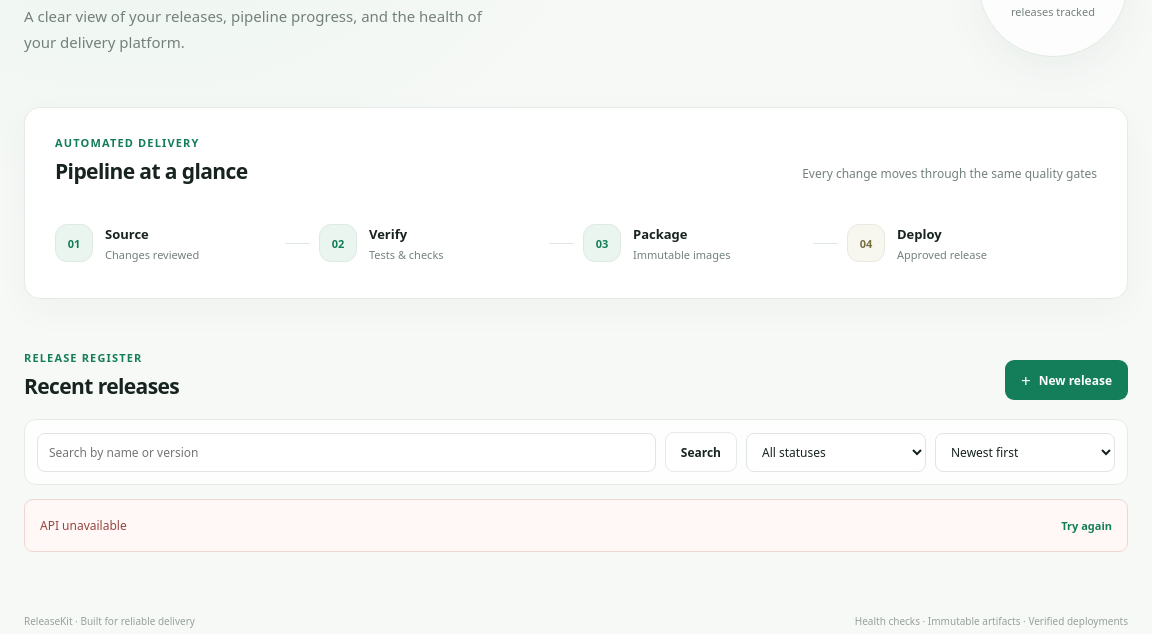
Test: release dashboard › shows an API error and retries release loading
(page scrolled)
Expected: the message "API unavailable Try again" is shown, x1=24 y1=499 x2=1128 y2=552
Expected: the message shows "API unavailable", x1=40 y1=517 x2=127 y2=534
Click the button "Try again" at coordinates (1087, 526), box x1=1061 y1=513 x2=1112 y2=538
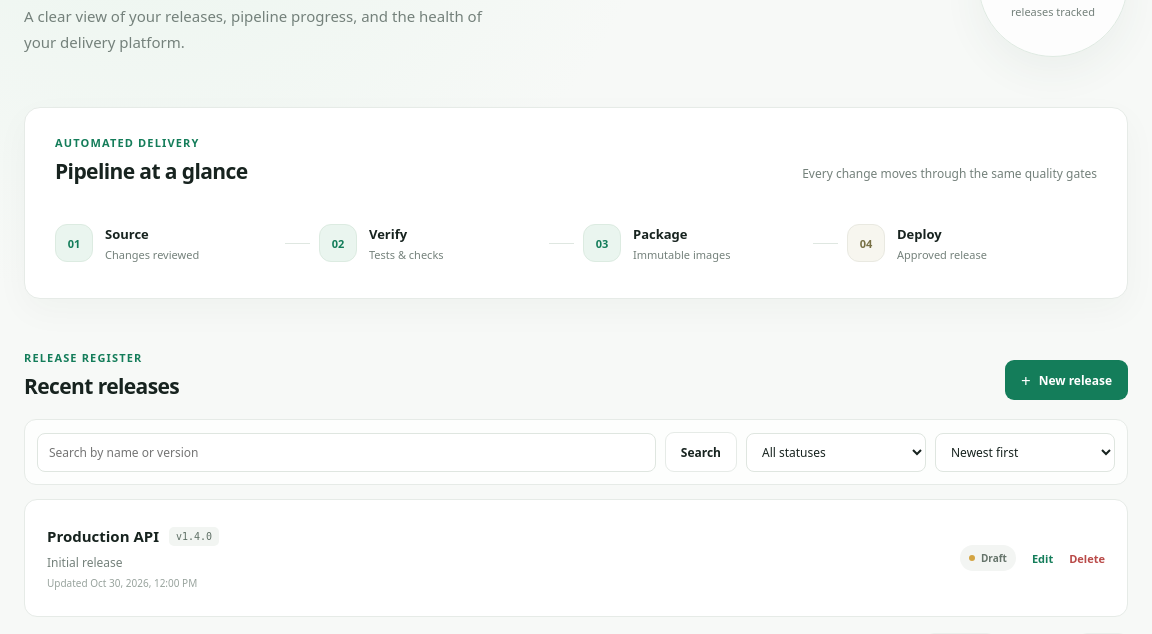
Expected: the heading "Production API" is shown, x1=47 y1=526 x2=159 y2=546
